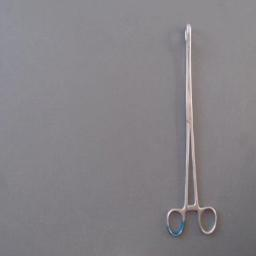Sponge Forceps: (162, 18, 222, 242)
